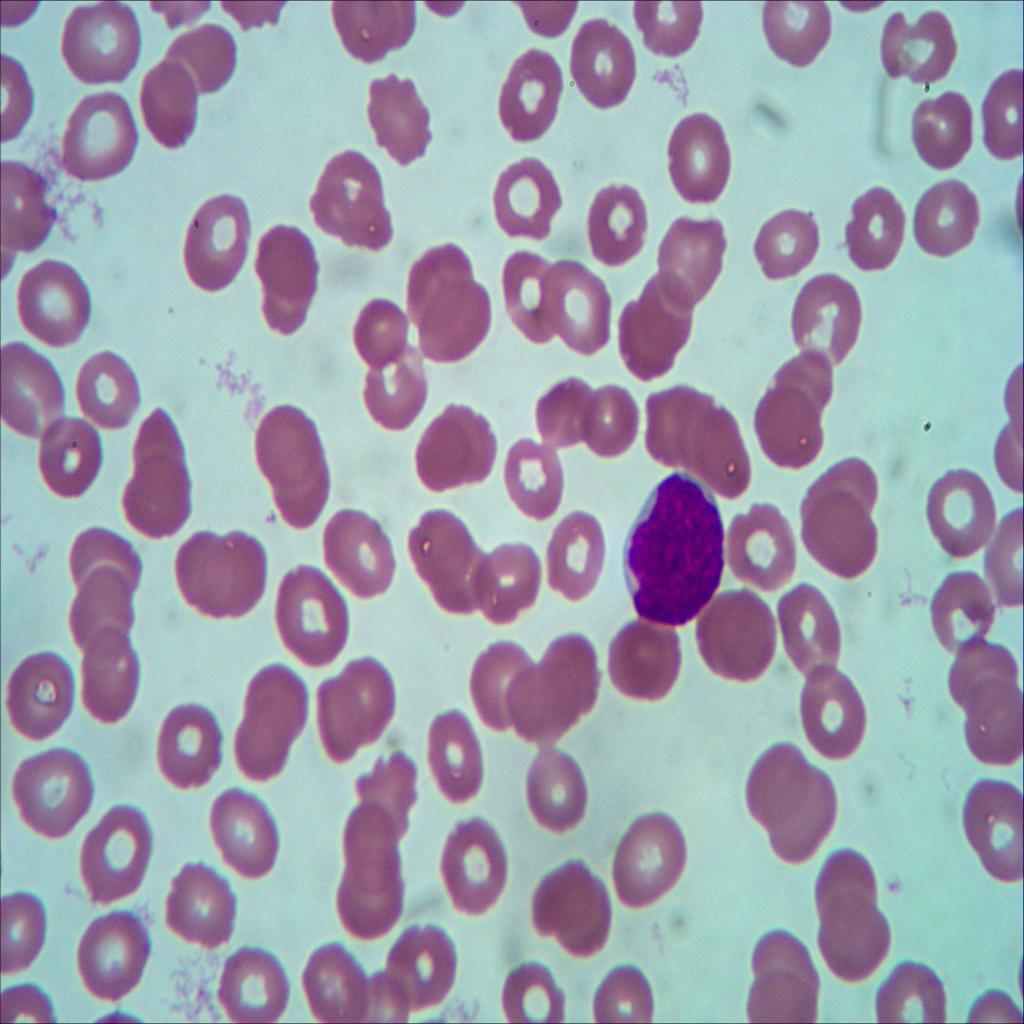Eritrosit: (301, 144, 405, 252), (182, 178, 258, 308), (409, 396, 504, 500), (73, 794, 158, 908), (438, 810, 520, 922), (56, 88, 148, 186), (532, 856, 616, 961), (54, 0, 145, 94), (613, 810, 692, 916), (10, 753, 100, 845), (359, 68, 440, 168), (774, 768, 849, 876), (699, 588, 779, 688), (318, 504, 397, 604), (770, 580, 845, 684), (725, 496, 800, 600), (276, 564, 350, 668), (168, 858, 250, 951), (202, 793, 284, 886), (876, 5, 968, 87), (209, 938, 296, 1024), (418, 710, 497, 804), (487, 149, 566, 243), (790, 260, 860, 366), (18, 256, 92, 356), (532, 260, 614, 350), (411, 517, 484, 618), (921, 462, 999, 556), (635, 371, 713, 465), (808, 484, 884, 580), (346, 350, 434, 432), (606, 616, 686, 706), (495, 663, 580, 747), (497, 44, 568, 144), (523, 742, 597, 837), (30, 406, 108, 496), (840, 178, 910, 278), (802, 663, 868, 769), (564, 18, 640, 110), (296, 930, 370, 1024), (658, 220, 732, 314), (959, 782, 1024, 888), (388, 916, 458, 1014), (76, 909, 152, 999), (252, 224, 315, 332), (795, 452, 879, 533), (756, 384, 832, 472), (72, 343, 147, 431), (464, 536, 543, 619), (0, 342, 71, 434), (907, 82, 979, 172), (2, 654, 79, 738), (687, 402, 753, 500), (426, 280, 496, 372), (330, 798, 403, 886), (163, 703, 229, 799), (940, 633, 1022, 710), (754, 202, 828, 287), (467, 638, 540, 724), (668, 111, 734, 206), (500, 436, 570, 525), (161, 22, 240, 100), (818, 891, 887, 980), (488, 256, 558, 342), (248, 400, 323, 480), (267, 446, 340, 528), (537, 630, 603, 720), (400, 238, 470, 322), (755, 0, 833, 75), (584, 179, 652, 265), (139, 60, 202, 152), (80, 636, 147, 722), (354, 754, 415, 848), (121, 452, 193, 531), (742, 736, 809, 820), (962, 676, 1024, 764), (68, 525, 141, 599), (495, 950, 568, 1024), (572, 379, 640, 457), (341, 653, 397, 747), (210, 528, 267, 620), (127, 403, 189, 487), (974, 62, 1024, 166), (312, 668, 365, 766), (917, 179, 983, 257), (812, 847, 879, 923), (929, 572, 994, 650), (591, 953, 662, 1024), (68, 570, 134, 646), (0, 164, 55, 255), (874, 959, 951, 1024), (178, 533, 236, 618), (338, 863, 405, 936), (347, 292, 411, 368), (548, 506, 601, 596), (749, 922, 817, 992), (243, 664, 310, 734), (232, 712, 294, 787), (534, 370, 590, 452), (614, 298, 672, 377), (773, 350, 838, 419), (742, 969, 819, 1024), (0, 891, 50, 972), (637, 281, 698, 347)
Limfoblast: (612, 468, 730, 623)
